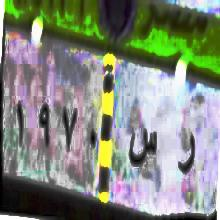0: (87, 116, 99, 158)
1: (11, 90, 27, 158)
7: (60, 98, 78, 157)
9: (37, 97, 53, 164)
raa: (176, 128, 197, 188)
seen: (128, 116, 158, 184)
